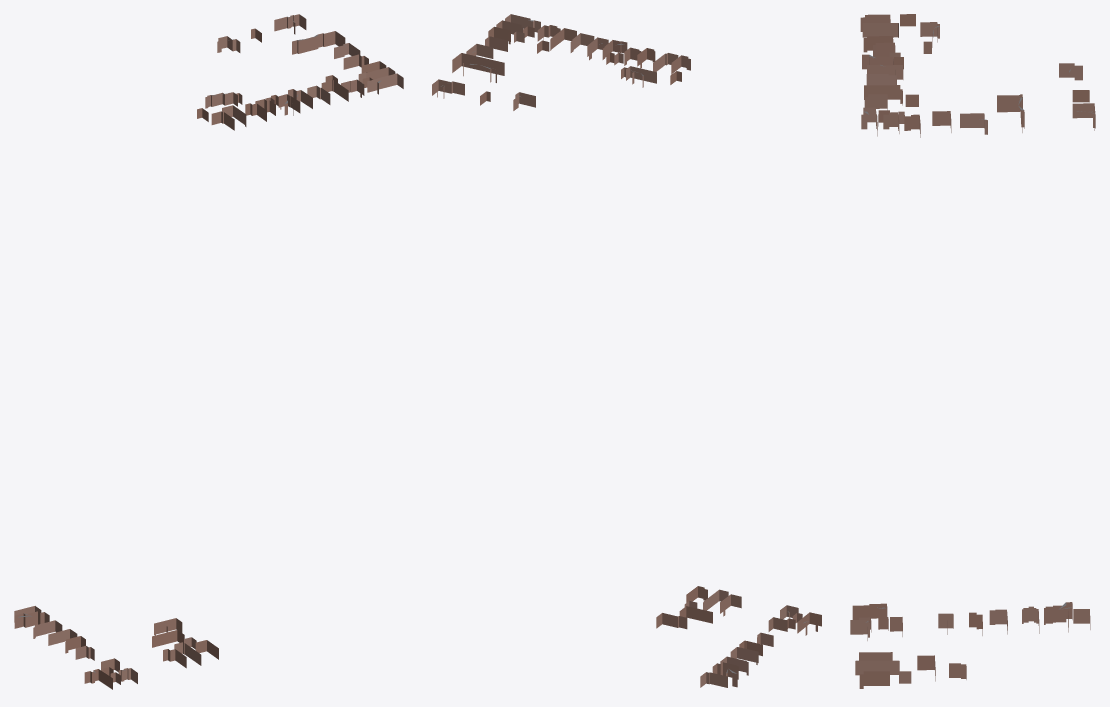
The model's file is c_1638_17829_buildings_residential.glb.
3 views of the same model, side by side, from view 1: azimuth 30°, elevation 25°; view 2: azimuth 150°, elevation 25°; view 3: azimuth 270°, elevation 25° (orthographic). The views are drawn at different scales.
Parts seen in each view (by area): view 1: geometry_0; view 2: geometry_0; view 3: geometry_0.
Boxes of the visible parts, bbox=[...] form: geometry_0: bbox=[14, 14, 403, 689]; geometry_0: bbox=[432, 14, 821, 687]; geometry_0: bbox=[850, 14, 1095, 688].
Size of the model in its own units: 268 by 447 by 145.
